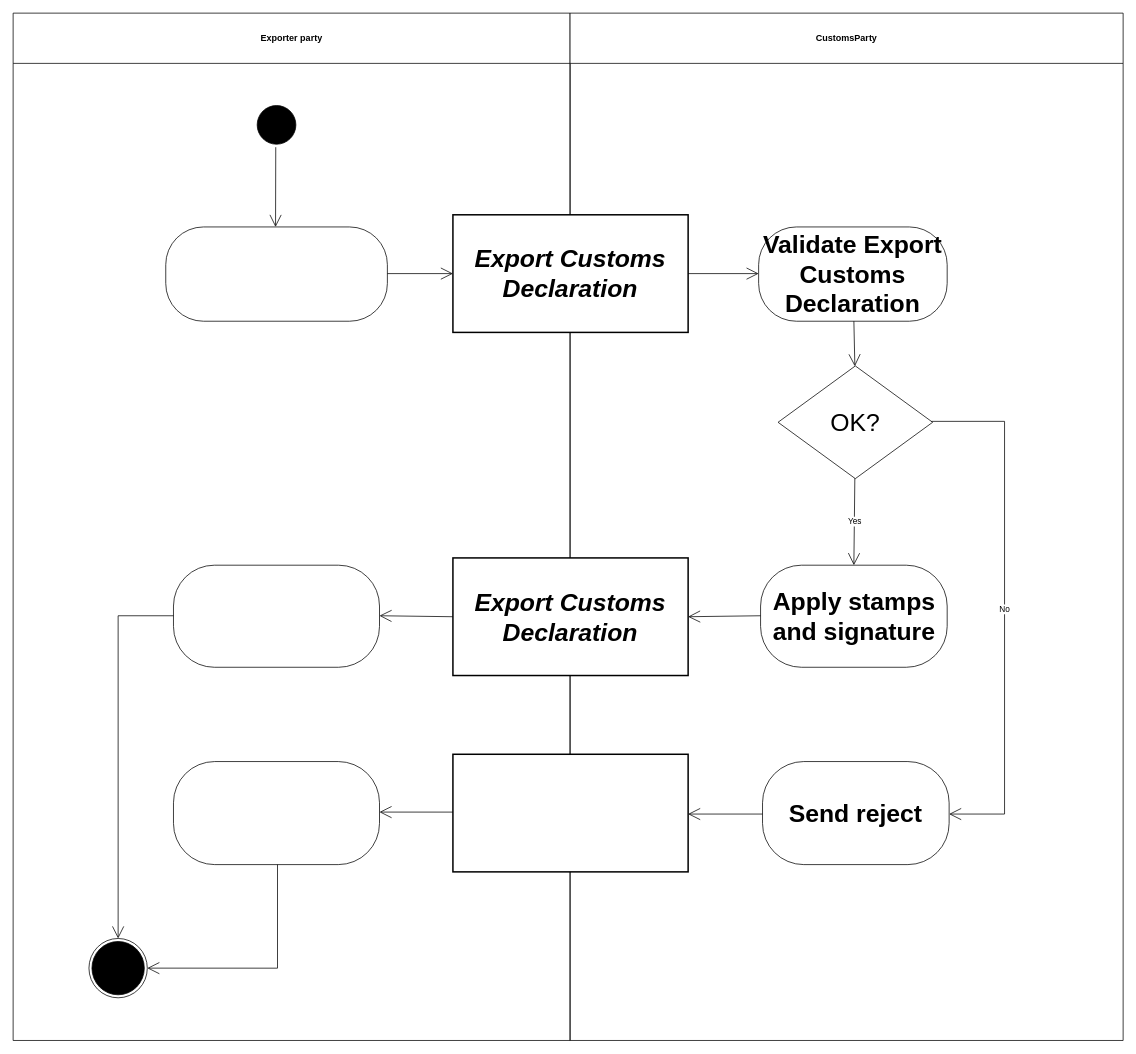
Image size: 1136x1054. Some labels were removed from this diagram. Here are the shapes that lost their labels. From the top down, the centre of each, then its label:
At (276,273): "Draft Export Customs Declaration".
At (276,615): "Receive Export Customs Declaration".
At (276,813): "Receive reject".
At (570,812): "Application response".
